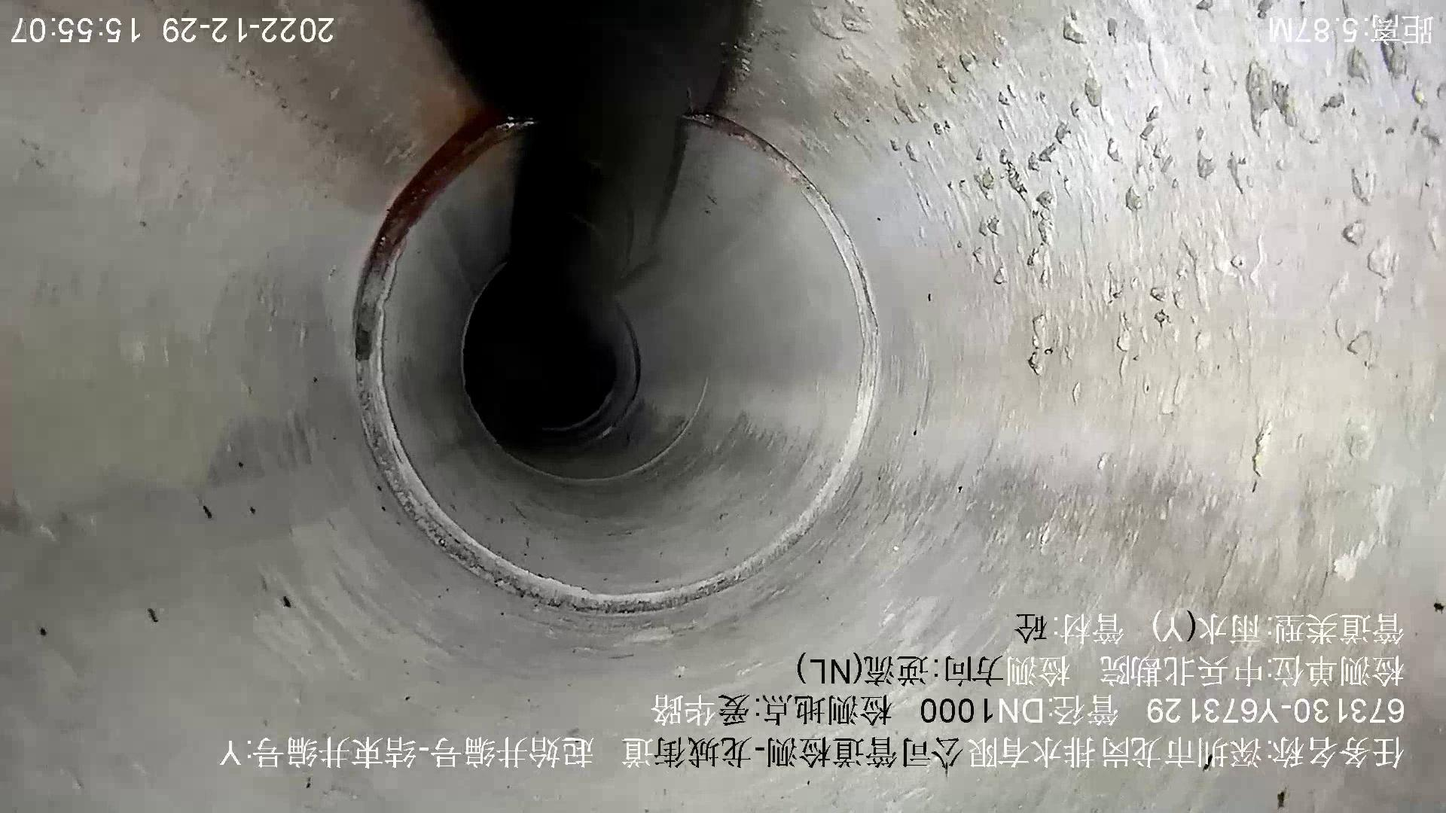CKTJ: (352, 108, 881, 617)
